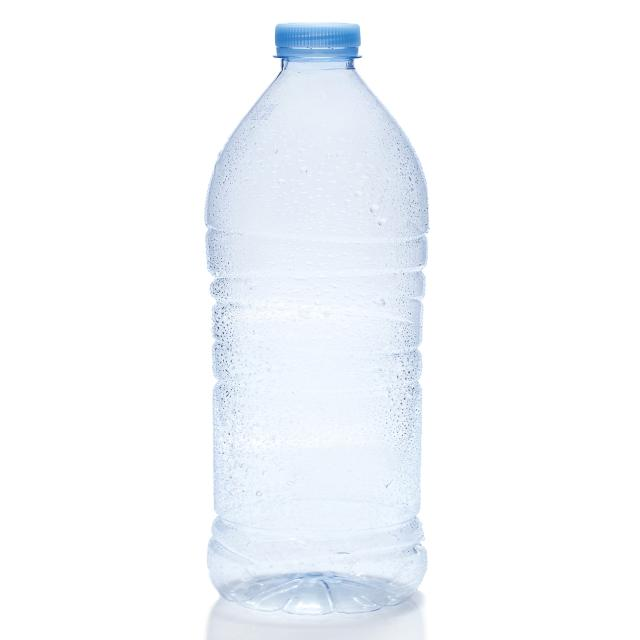bottle: (206, 22, 431, 616)
